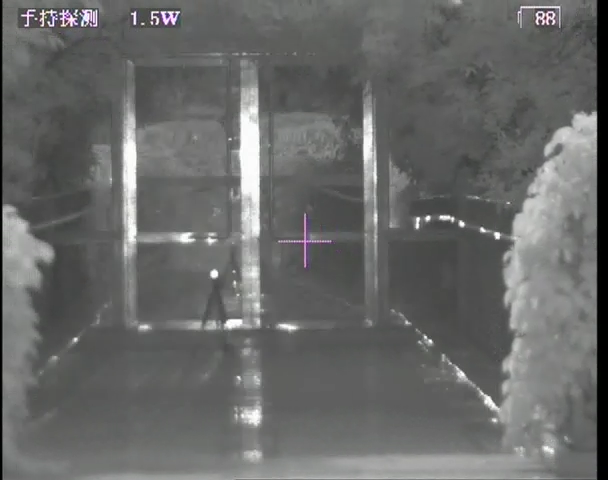my: (206, 267, 221, 281)
